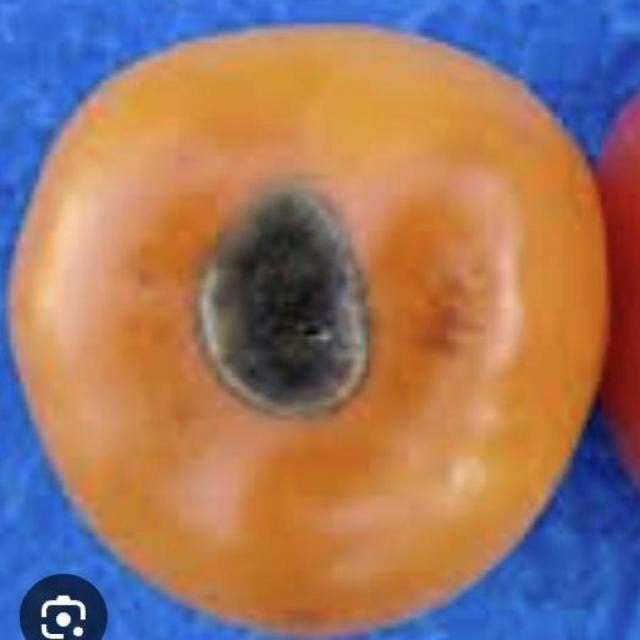Blossom End Rot Fruit: (127, 115, 252, 274)
